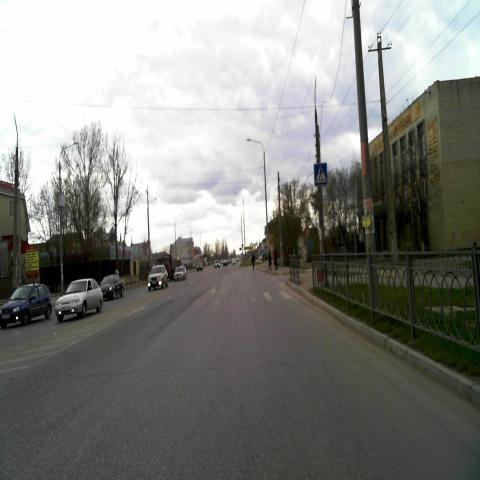5_19_1: (314, 163, 328, 186)
